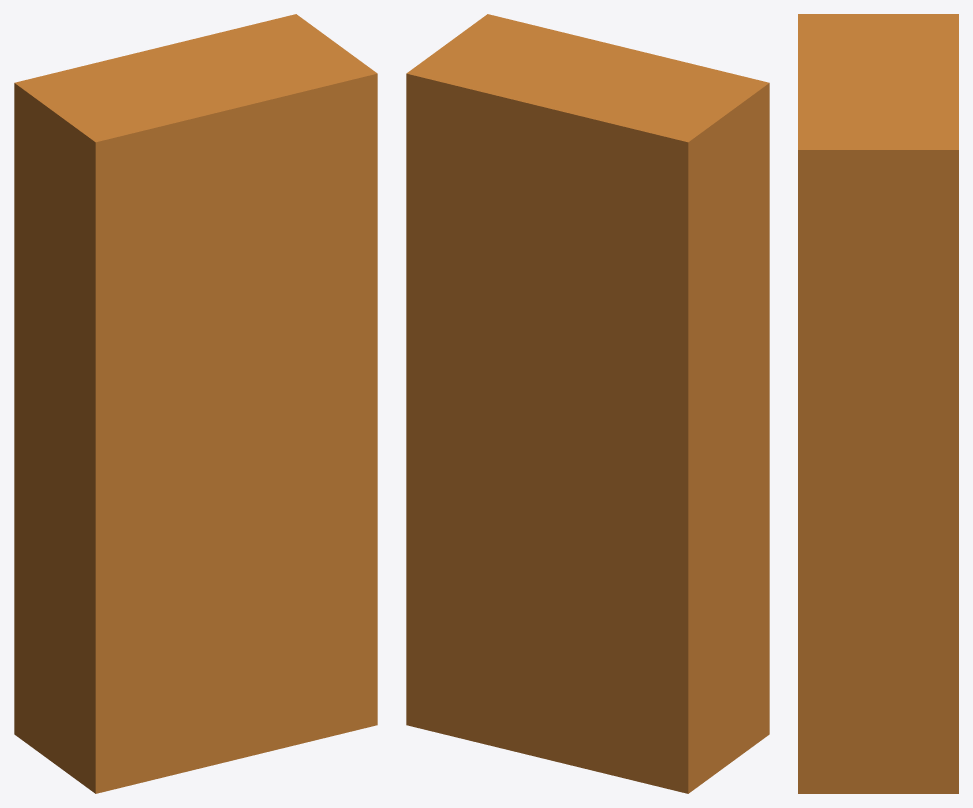
The picture shows the model from 3 angles, left to right: view 1: azimuth 30°, elevation 25°; view 2: azimuth 150°, elevation 25°; view 3: azimuth 270°, elevation 25°; orthographic projection.
Parts seen in each view (by area): view 1: L4-6-S7-3F5-M10; view 2: L4-6-S7-3F5-M10; view 3: L4-6-S7-3F5-M10.
Part boxes in pixels (x1=…): L4-6-S7-3F5-M10: x1=14, y1=14, x2=377, y2=793; L4-6-S7-3F5-M10: x1=406, y1=14, x2=769, y2=793; L4-6-S7-3F5-M10: x1=798, y1=14, x2=958, y2=793.
Bounding box in the file's own units: 0.09 × 0.1987 × 0.045.
